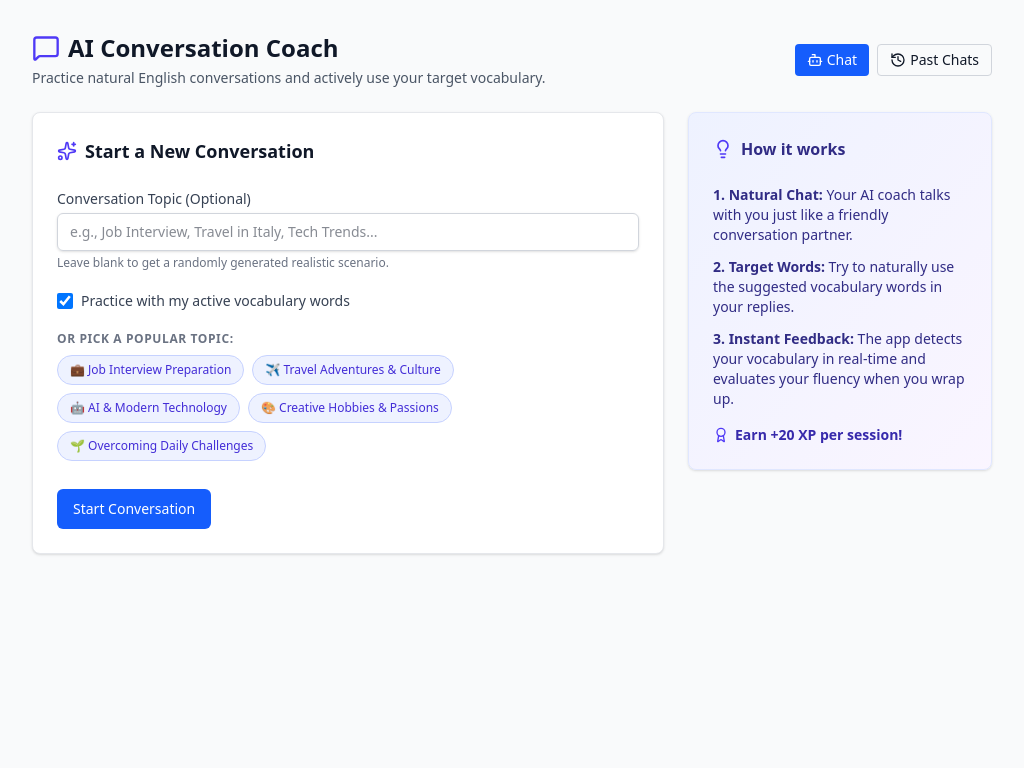
it: ConversationsPage › allows user to end conversation and renders complete evaluation card
# Start session
Click the button "Start Conversation" at (134, 509), box [57, 489, 211, 529]
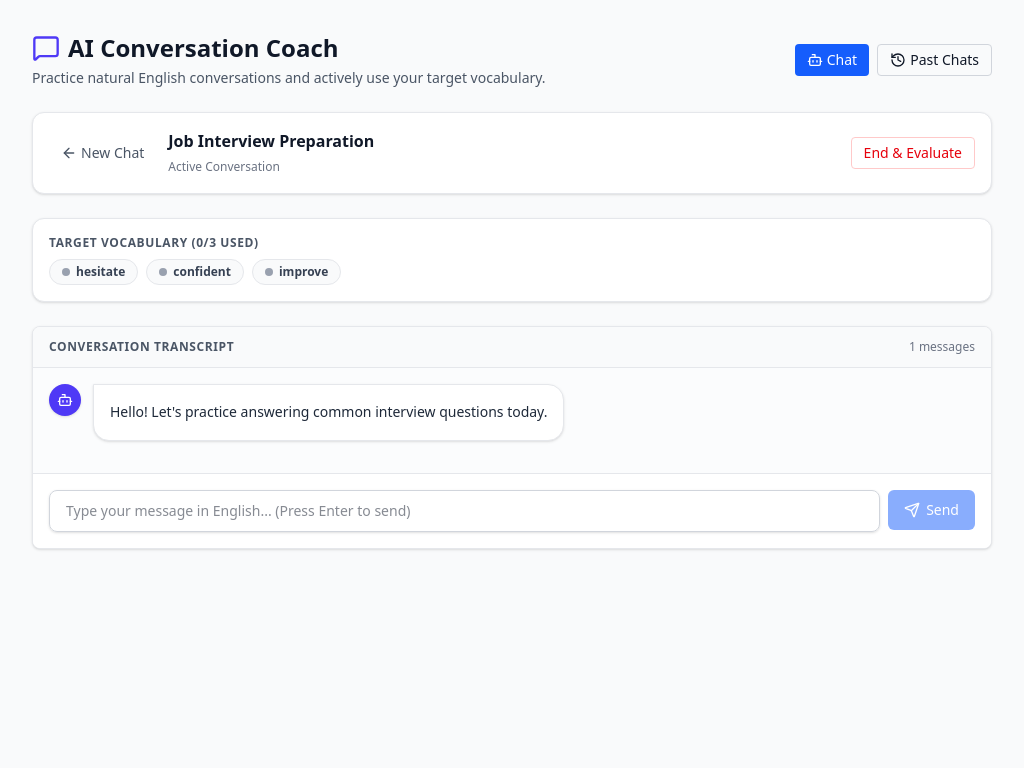
Now the button "End & Evaluate" is shown
# End session
Click the button "End & Evaluate" at (913, 153), box [851, 137, 975, 169]
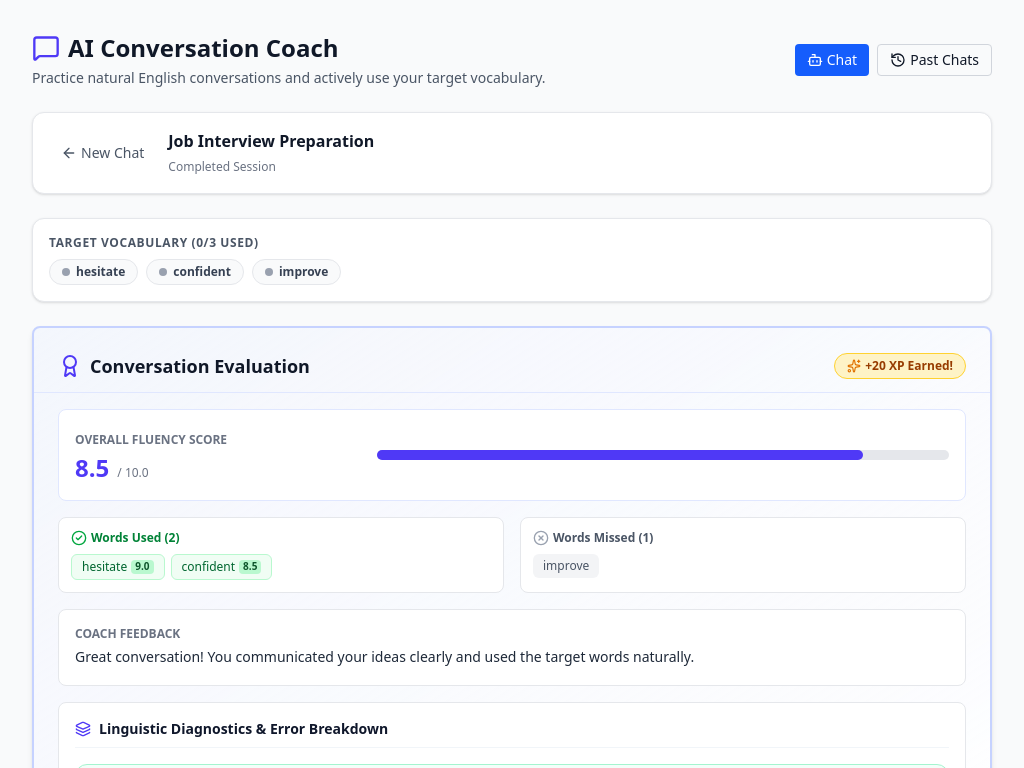
Now the heading "Conversation Evaluation" is shown, box [58, 352, 310, 380]
Now the text "+20 XP Earned!" is shown, box [834, 353, 966, 379]
Now the text "Words Used (2)" is shown, box [71, 529, 180, 546]
